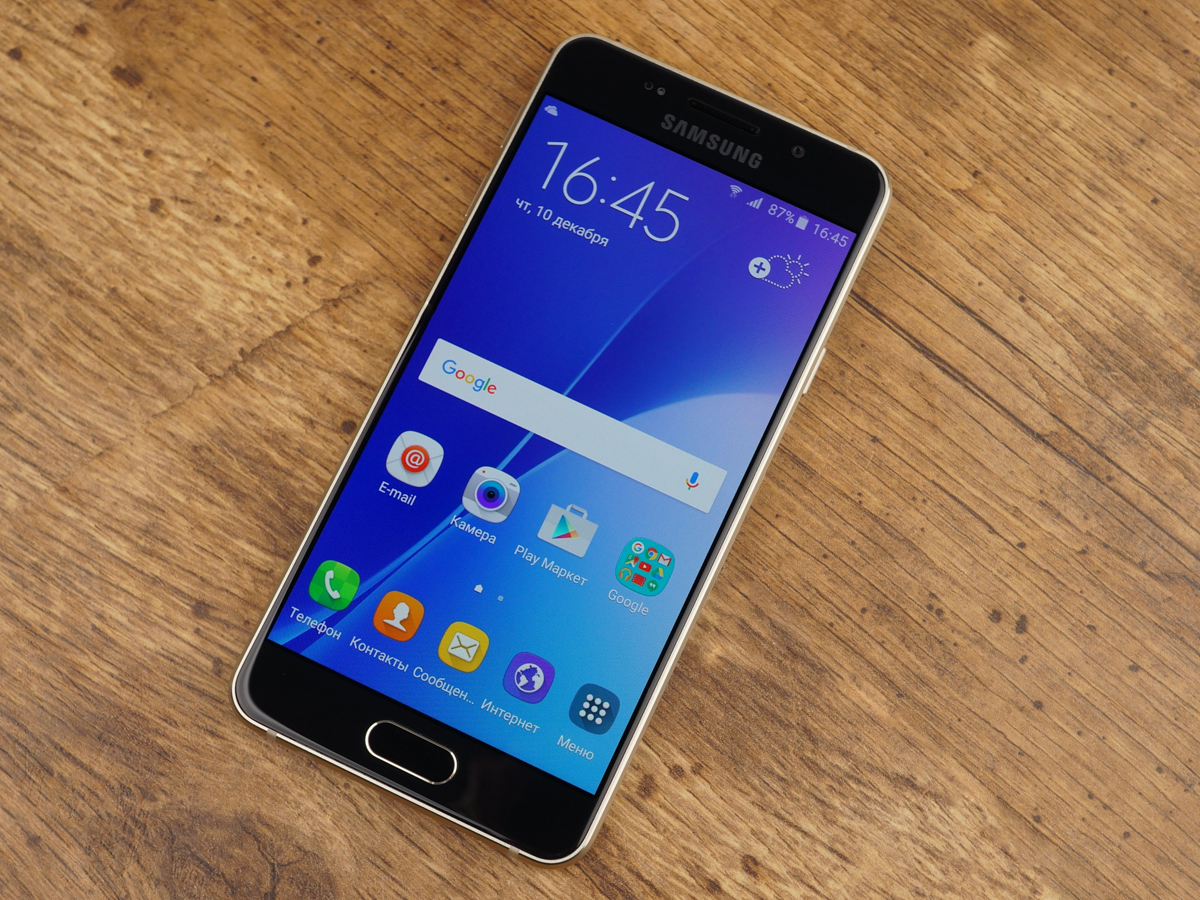smartphone: (231, 33, 890, 870)
